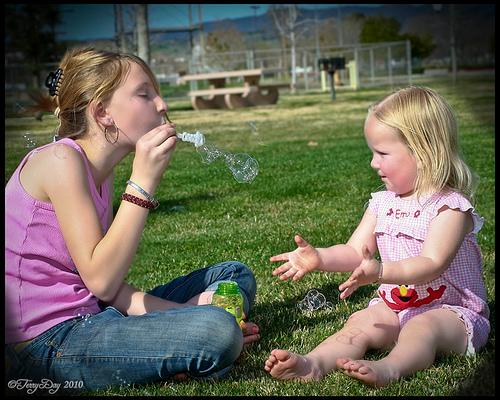person: (3, 44, 263, 389)
